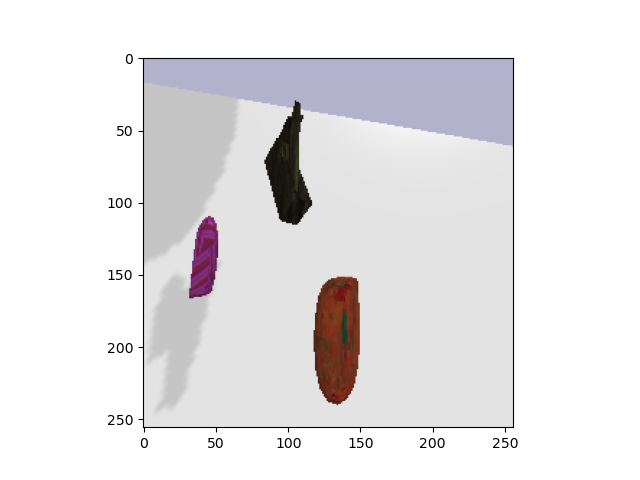v249b387_105: (185, 216, 229, 307)
v249b387_106: (310, 267, 368, 407)
v249b387_109: (249, 95, 327, 227)
